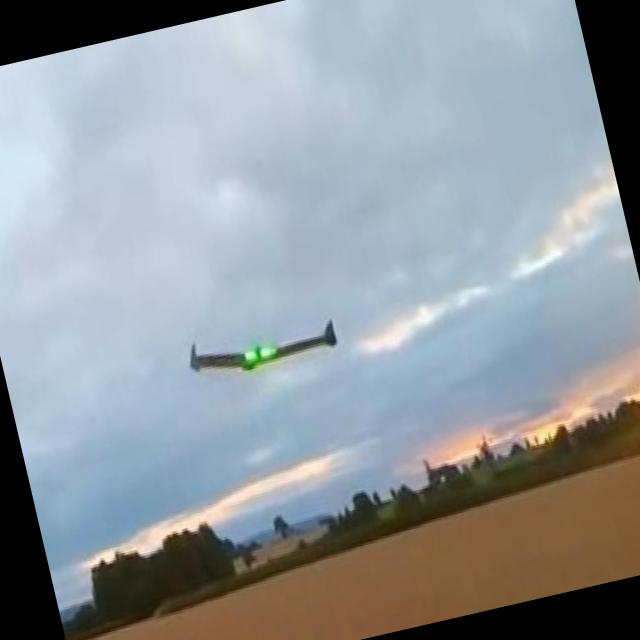UAV: (132, 274, 362, 438)
